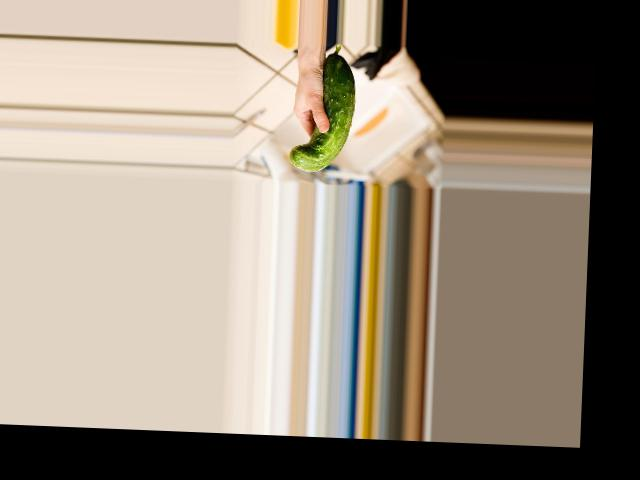cucumber: (289, 43, 358, 173)
